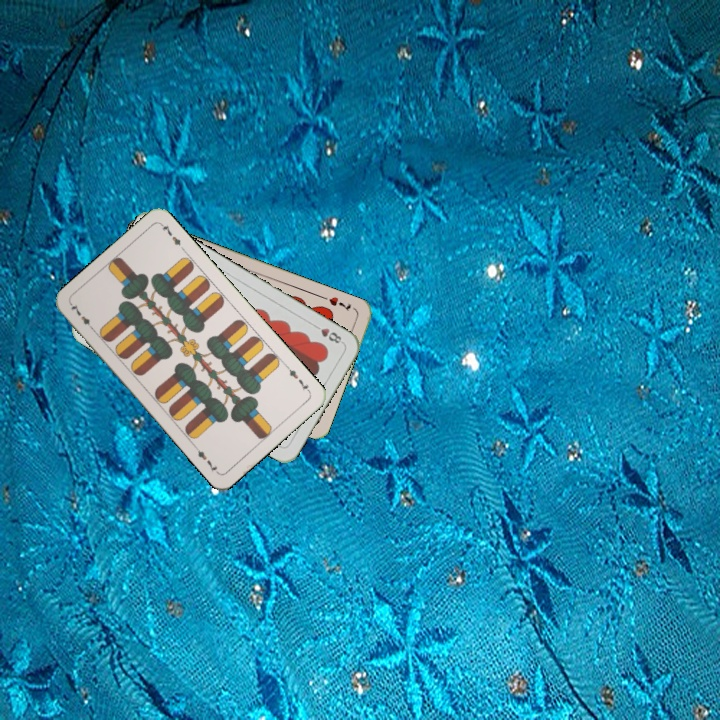E7: (66, 300, 97, 334), (282, 362, 313, 395)
H7: (325, 293, 354, 314)
H8: (309, 320, 346, 346)
